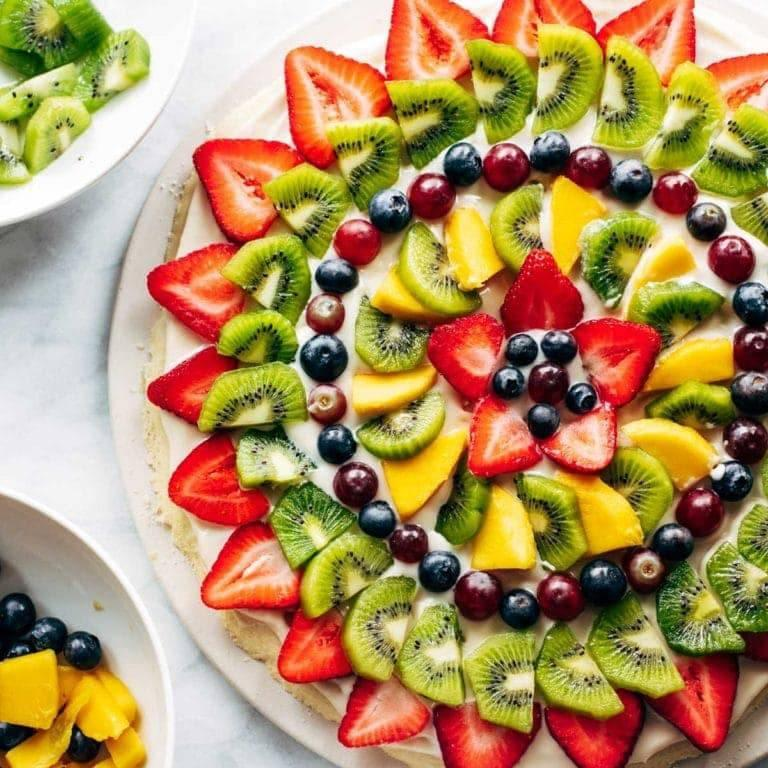apple: (431, 701, 522, 768)
